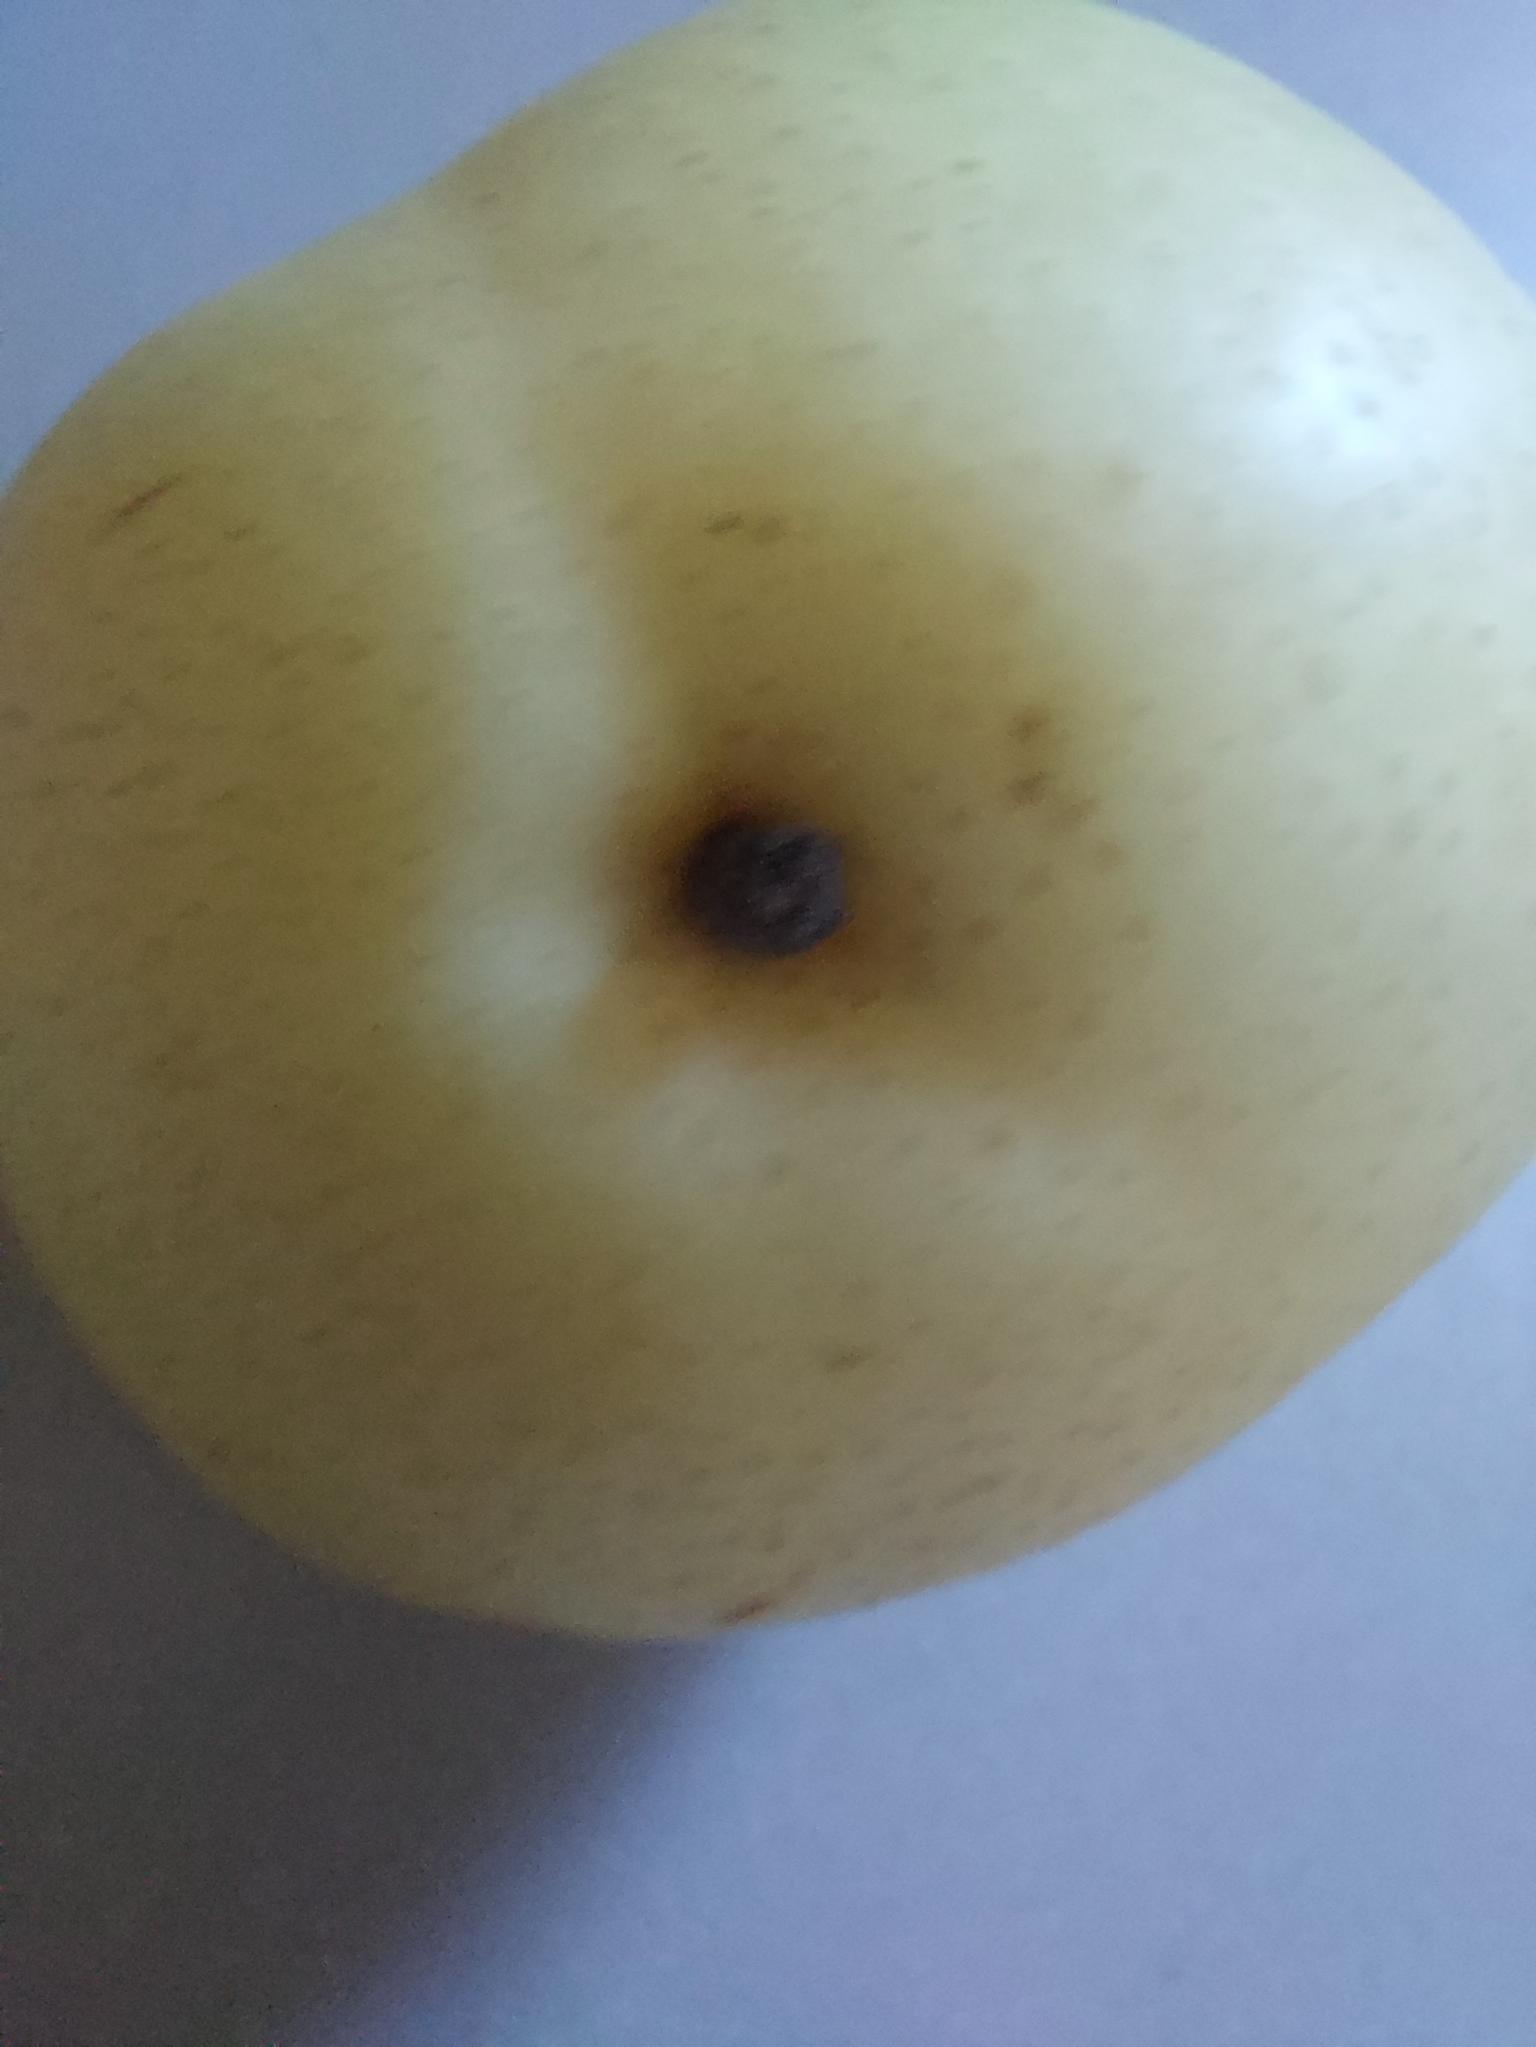Good Pear: (0, 0, 1536, 1660)
